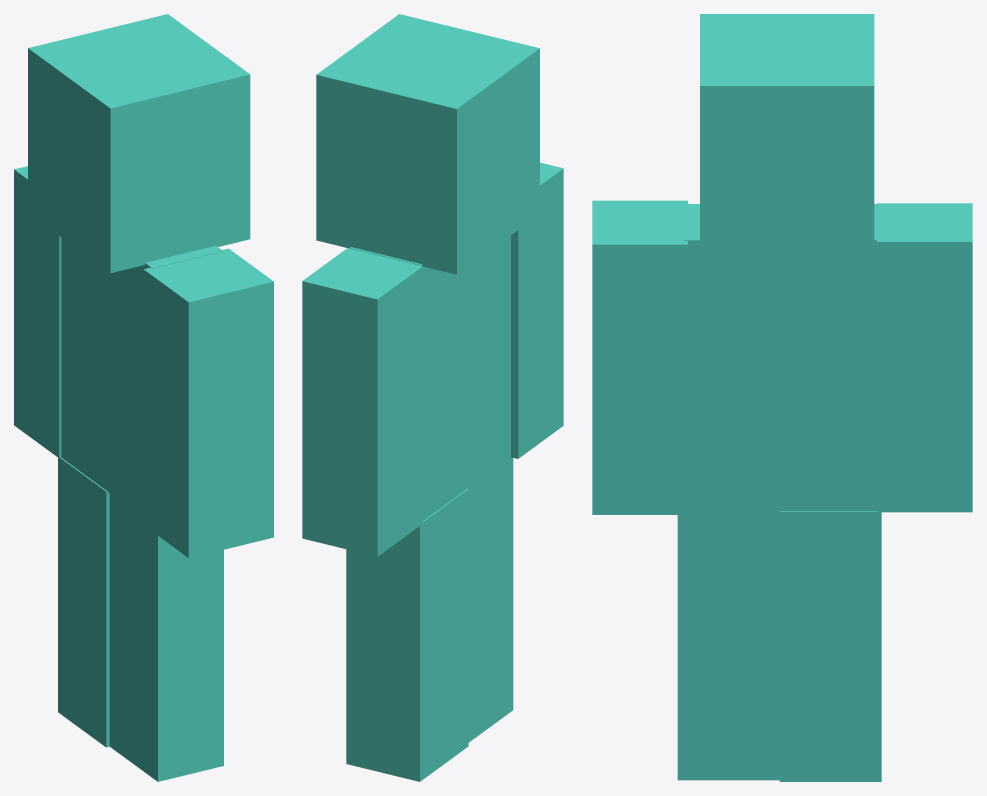
File: zombie.gltf
3 views of the same model, side by side, from view 1: azimuth 30°, elevation 25°; view 2: azimuth 150°, elevation 25°; view 3: azimuth 270°, elevation 25° (orthographic). The views are drawn at different scales.
Visible parts, largest first — view 1: Cube (×6); view 2: Cube (×6); view 3: Cube (×6).
Part boxes in pixels (x1,y1,x2,y2): Cube (×6): (14, 14, 273, 781); Cube (×6): (302, 14, 563, 781); Cube (×6): (592, 14, 972, 781).
Size of the model in its own units: 0.6655 by 3.07 by 1.48.
